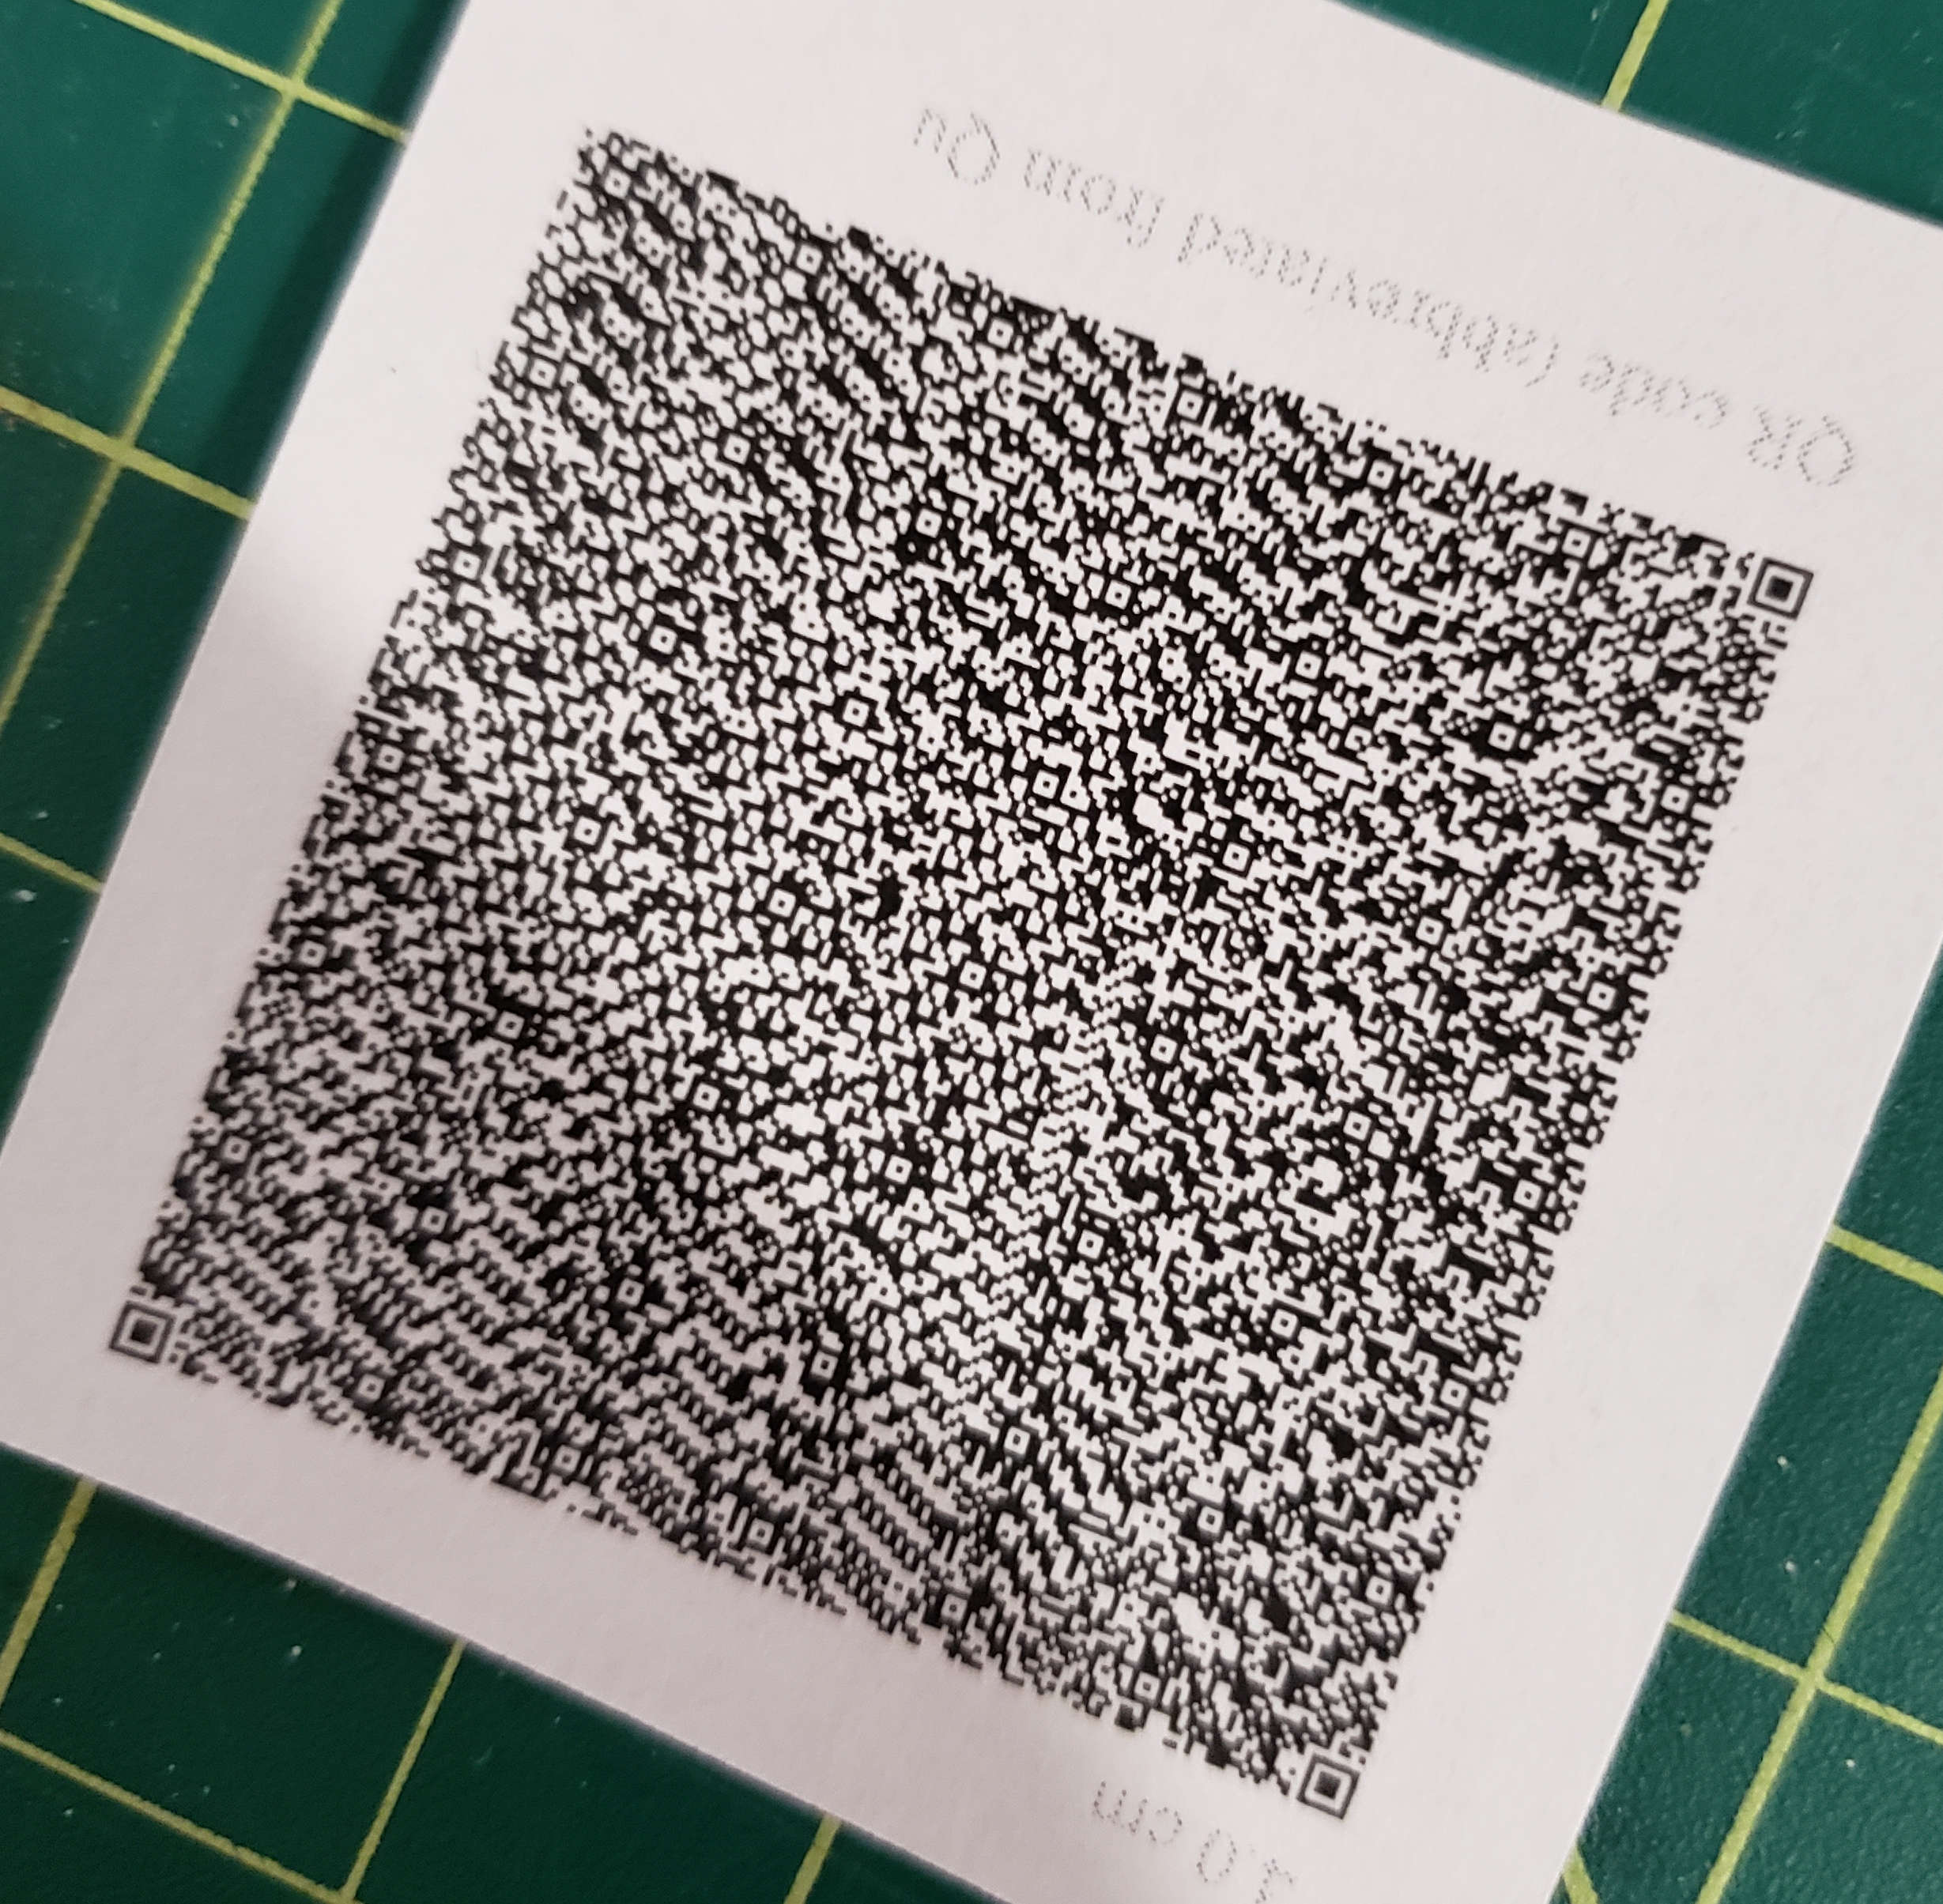QR_CODE: (59, 68, 1851, 1862)
